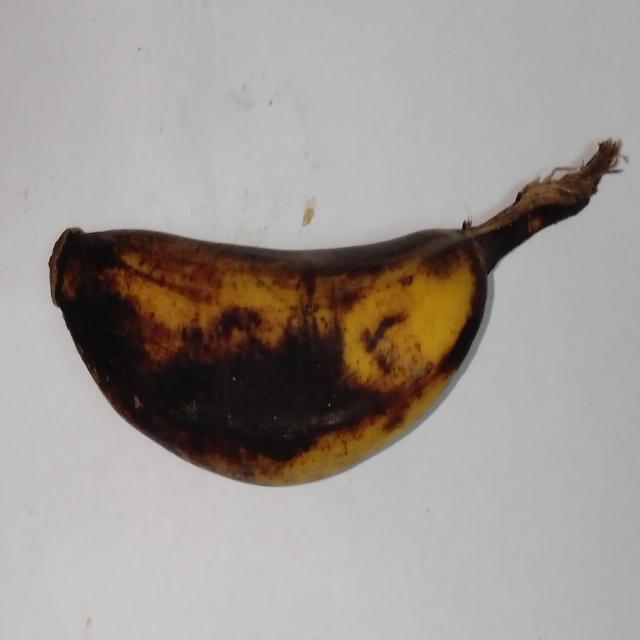banana: (50, 141, 620, 484)
